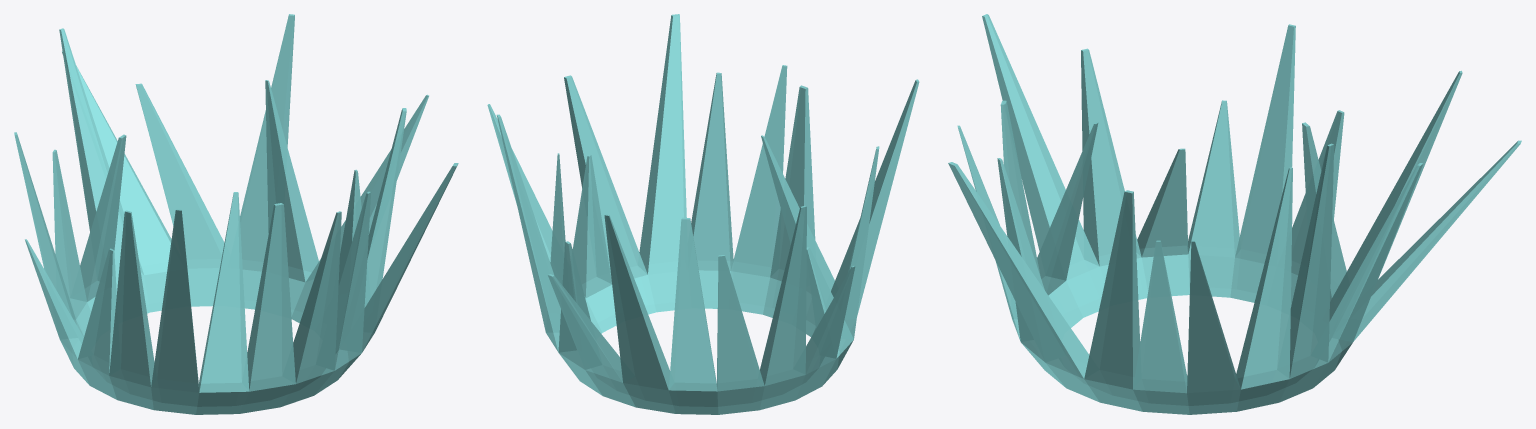
Rendered from ice_crown.dae.
3 renders of one model, left to right at view 1: azimuth 30°, elevation 25°; view 2: azimuth 150°, elevation 25°; view 3: azimuth 270°, elevation 25°, orthographic. The views are drawn at different scales.
Visible parts, largest first — view 1: Circle; view 2: Circle; view 3: Circle.
Boxes of the visible parts, left/top/right/bottom form: Circle: left=14, top=14, right=458, bottom=414; Circle: left=487, top=14, right=919, bottom=414; Circle: left=948, top=14, right=1521, bottom=414.
Bounding box in the file's own units: 2.32 × 2.71 × 1.47.
